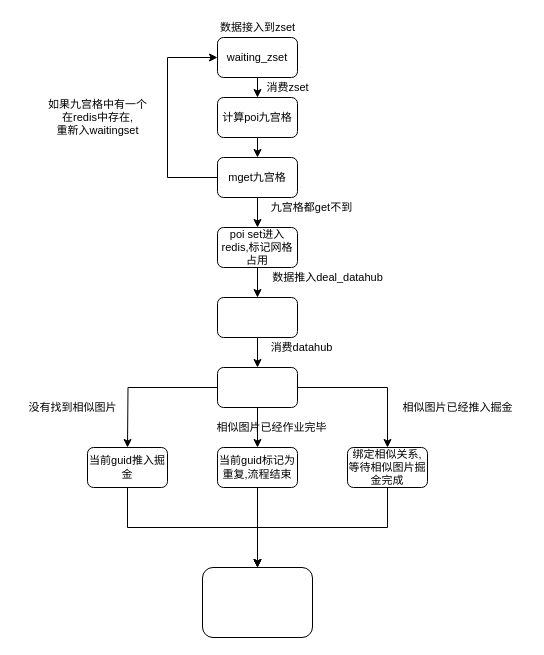
Some shapes in this 544 by 655 pixel diagram are drawn without their labels. The shapes that lost their labels are listed below. From the top down, each one's centre as x and y in pixels, then its label:
(x=257, y=317): deal_datahub
(x=257, y=387): 调用similar获取该guid图片的相似图片
(x=257, y=602): 将该guid在redis中的网格占位删除,使九宫格内的guid可以继续处理
